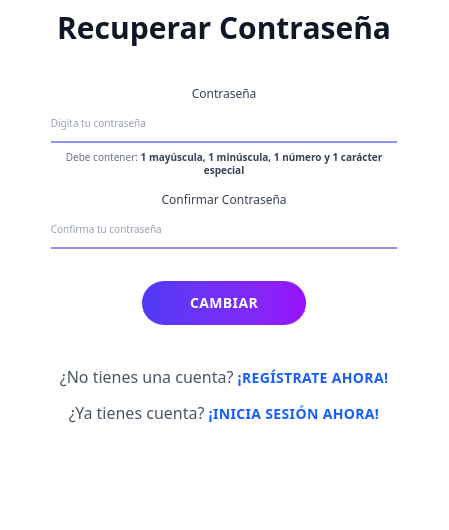
Scenario: RestorePassword Component - pruebas unitarias › Validación del formulario › debe mostrar error cuando la contraseña no tiene mayúscula
Type "password123!" into the password field with placeholder "Digita tu contraseña" at (224, 124), box [51,106,397,143]
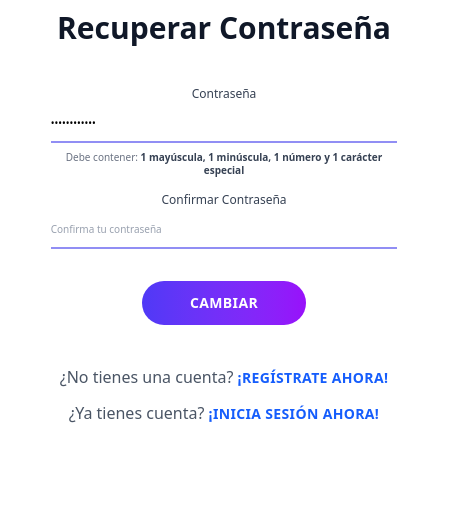
Type "password123!" into the password field with placeholder "Confirma tu contraseña" at (224, 230), box [51,212,397,249]
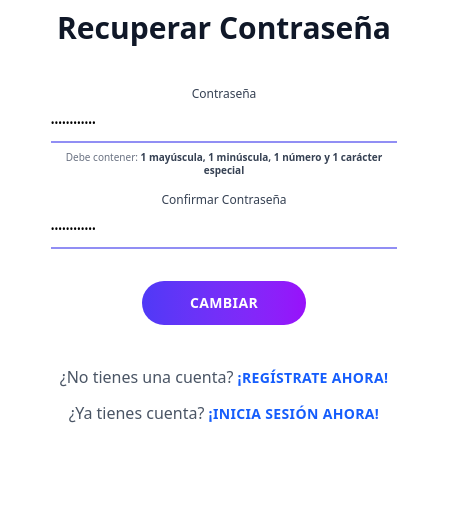
Click the button "CAMBIAR" at (224, 303), box [142,281,306,325]
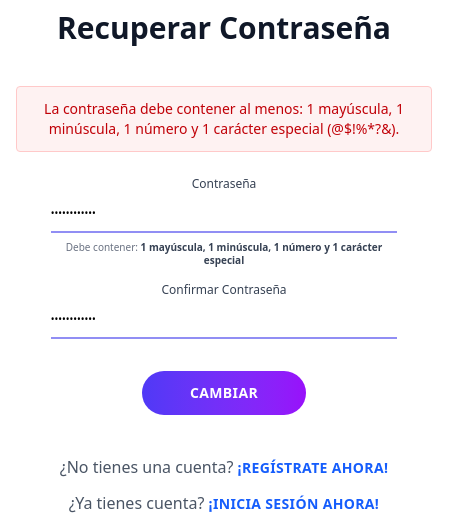
Now the text "La contraseña debe contener al menos" is shown, box [44,99,404,138]
